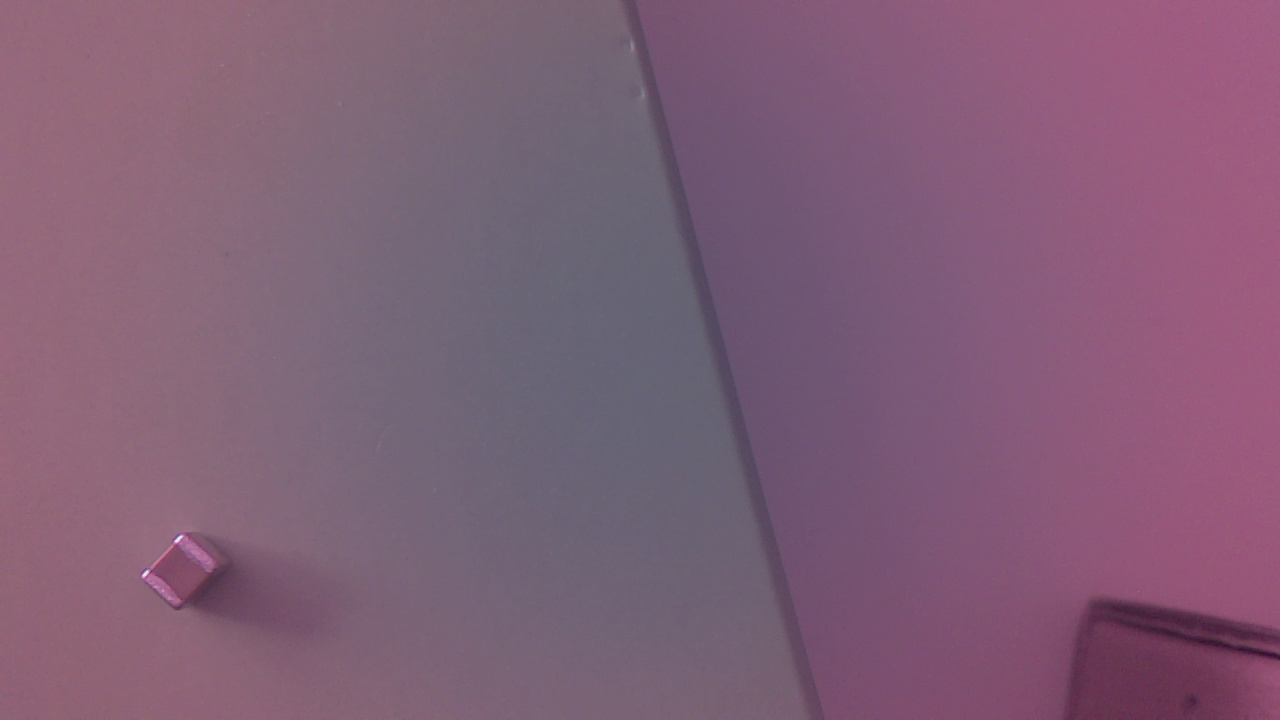Condensator: (138, 531, 243, 617)
